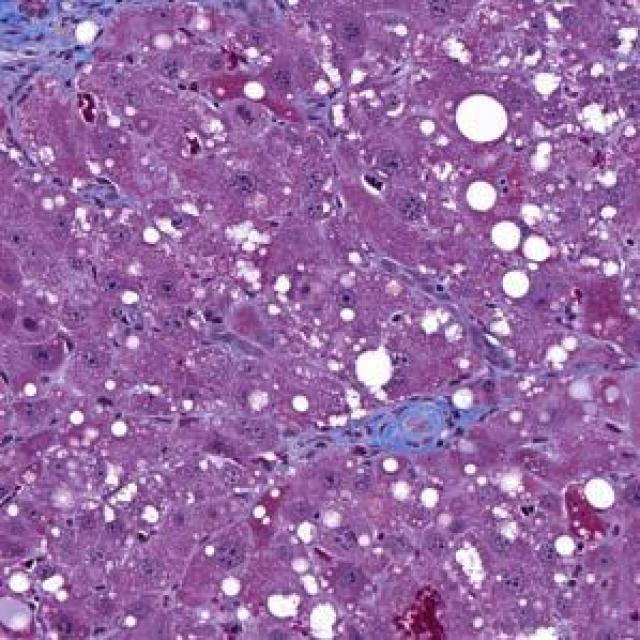fibrosis: (349, 387, 488, 473), (19, 15, 109, 98)
